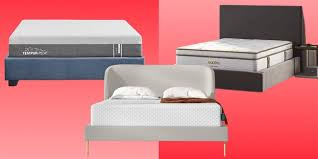bed-matress: (91, 88, 222, 128)
